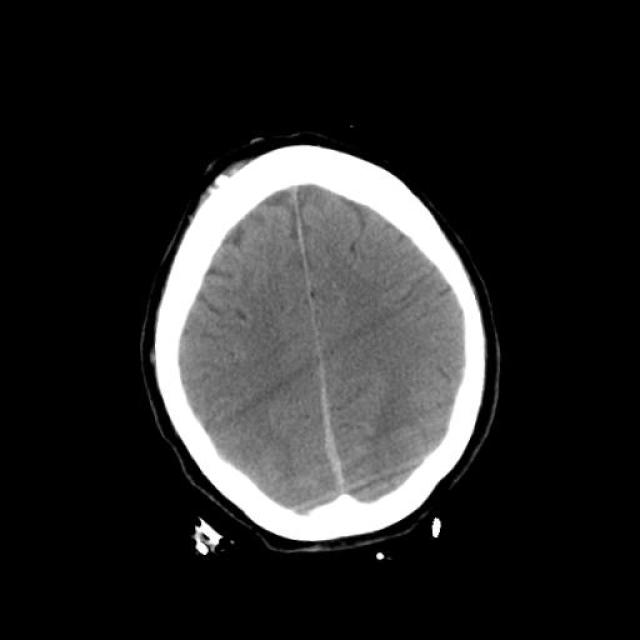Subdural: (298, 337, 392, 522)
